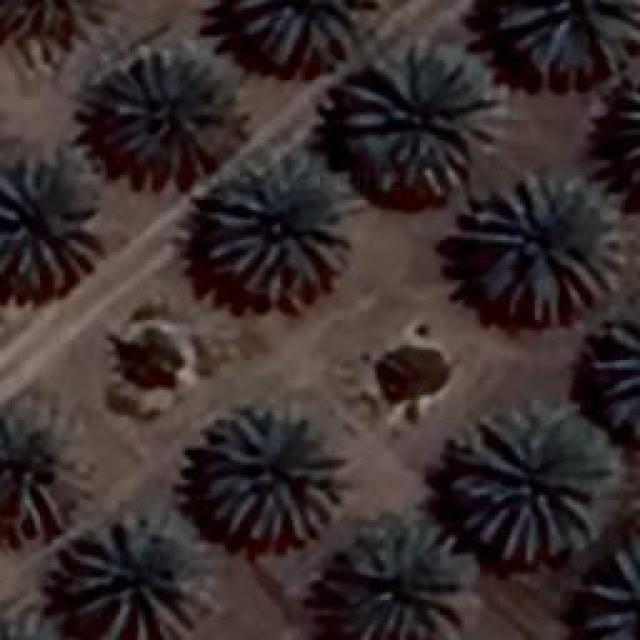PalmTree: (25, 143, 610, 383), (347, 45, 515, 200), (462, 170, 630, 322), (448, 407, 600, 565), (200, 150, 350, 302), (195, 410, 348, 550), (60, 507, 218, 635), (92, 47, 242, 175), (330, 524, 468, 638), (0, 155, 102, 282), (494, 0, 638, 78), (0, 402, 80, 538), (60, 126, 628, 143), (232, 0, 365, 62), (0, 0, 115, 60), (582, 542, 638, 638), (0, 614, 76, 640), (1, 621, 78, 640)
